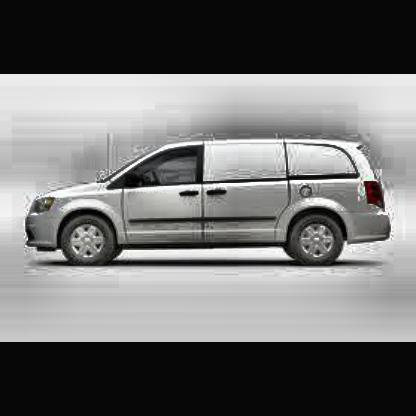Ram C-V Cargo Van Minivan 2012: (28, 135, 393, 270)
